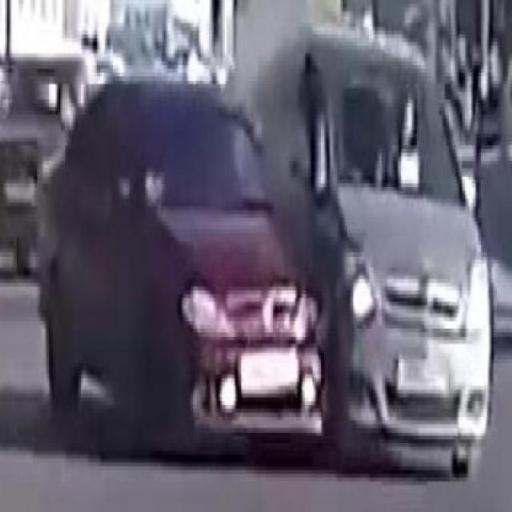小汽车撞小汽车: (46, 32, 487, 478)
